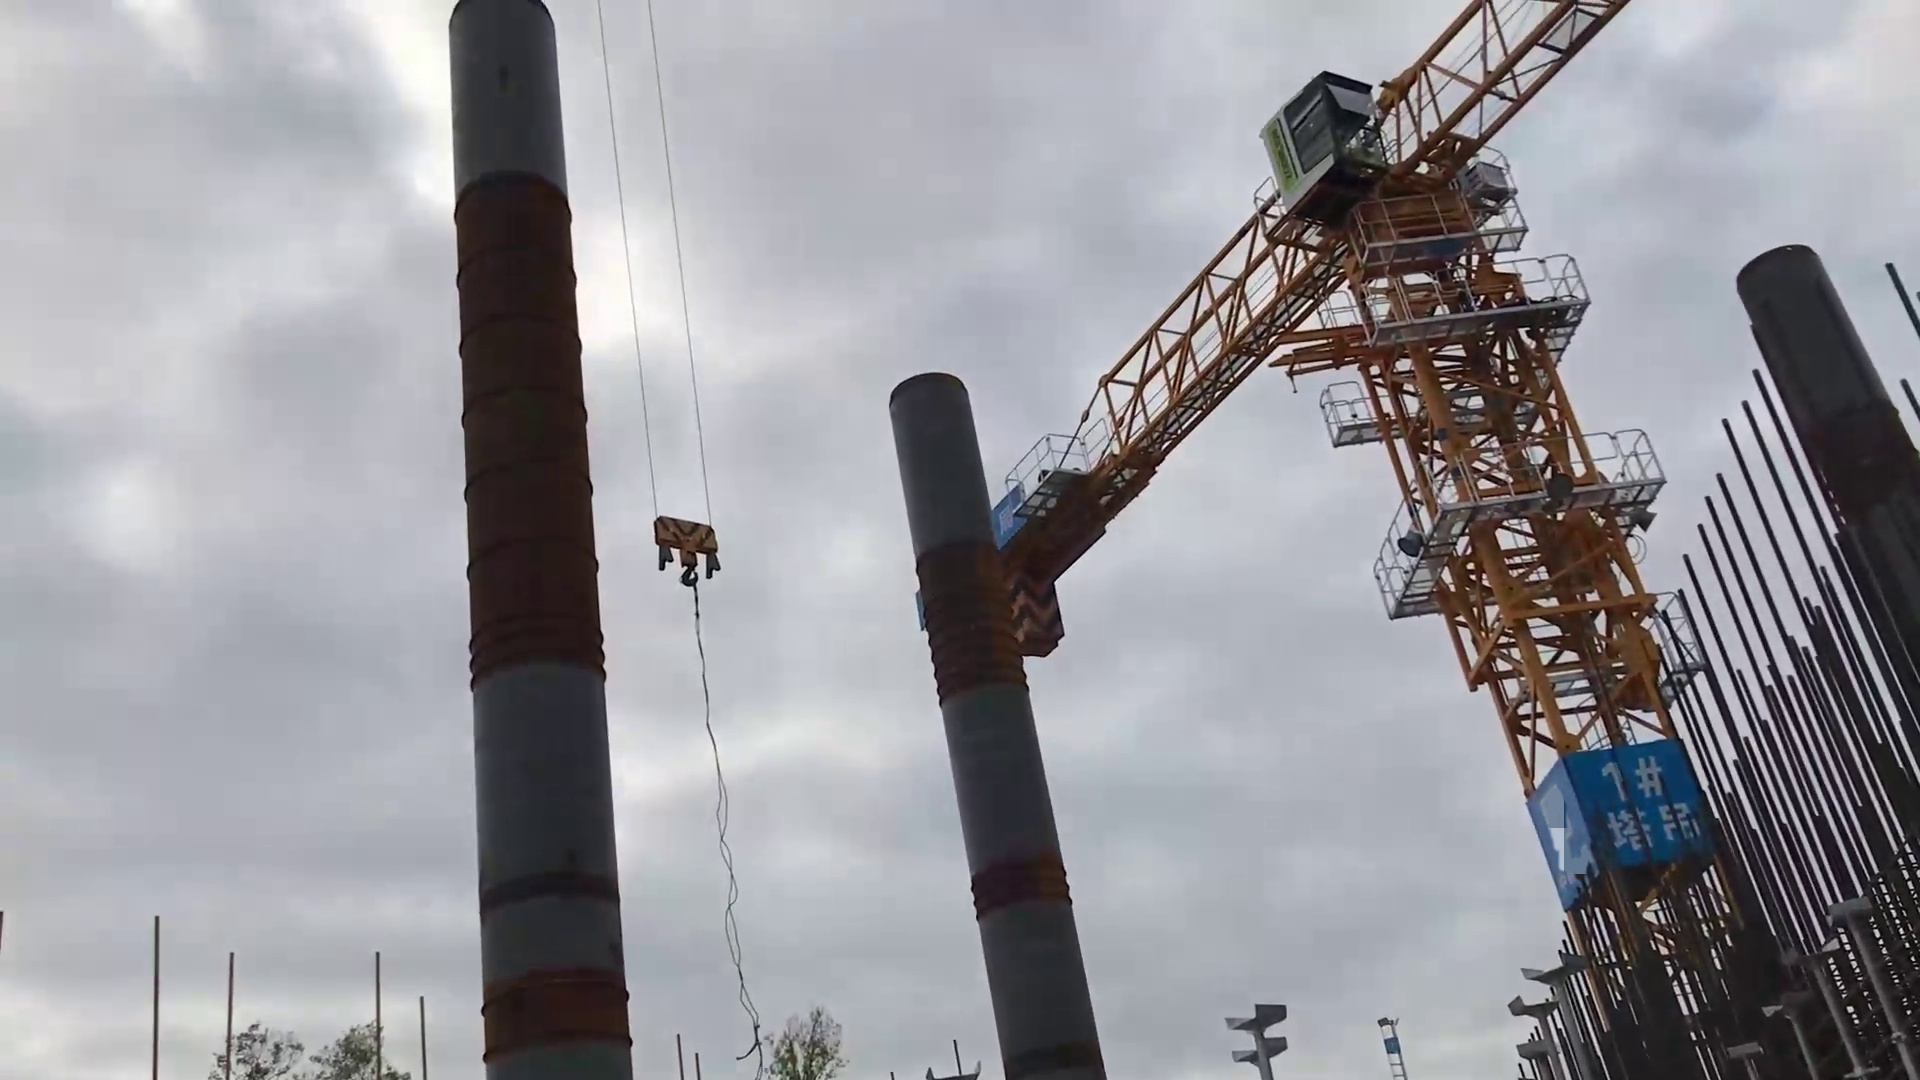hook: (644, 501, 737, 607)
